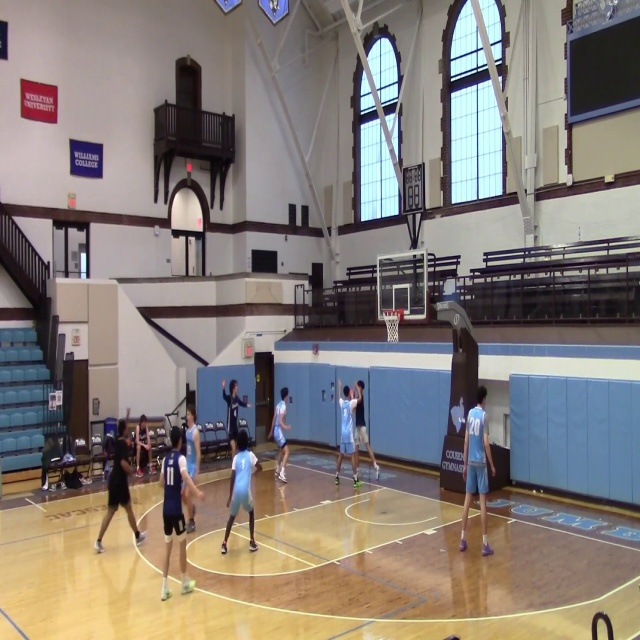Basketball: (196, 491, 205, 503)
